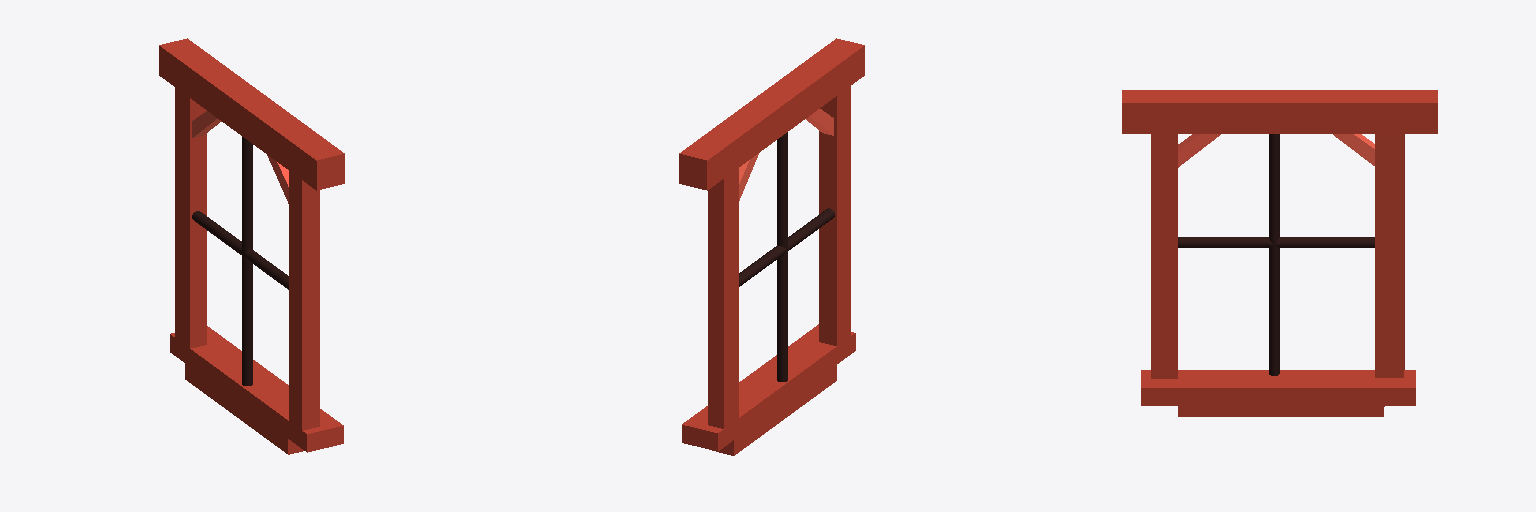
File: Window.obj
The picture shows the model from 3 angles: view 1: azimuth 30°, elevation 25°; view 2: azimuth 150°, elevation 25°; view 3: azimuth 270°, elevation 25°; orthographic projection.
Parts seen in each view (by area): view 1: Cube, Cylinder, Cylinder.001; view 2: Cube, Cylinder, Cylinder.001; view 3: Cube, Cylinder, Cylinder.001, Cube.001, Cube.002.
Boxes of the visible parts, <box> form: Cube: <box>159,38,344,454</box>; Cylinder: <box>242,137,252,385</box>; Cylinder.001: <box>192,211,288,289</box>; Cube: <box>679,38,864,455</box>; Cylinder: <box>777,132,787,381</box>; Cylinder.001: <box>739,208,834,286</box>; Cube: <box>1122,90,1437,416</box>; Cylinder: <box>1269,134,1279,375</box>; Cylinder.001: <box>1178,237,1374,247</box>; Cube.001: <box>1178,134,1220,167</box>; Cube.002: <box>1333,134,1374,165</box>.
Bounding box in the file's own units: 1.77 × 14.58 × 13.21.